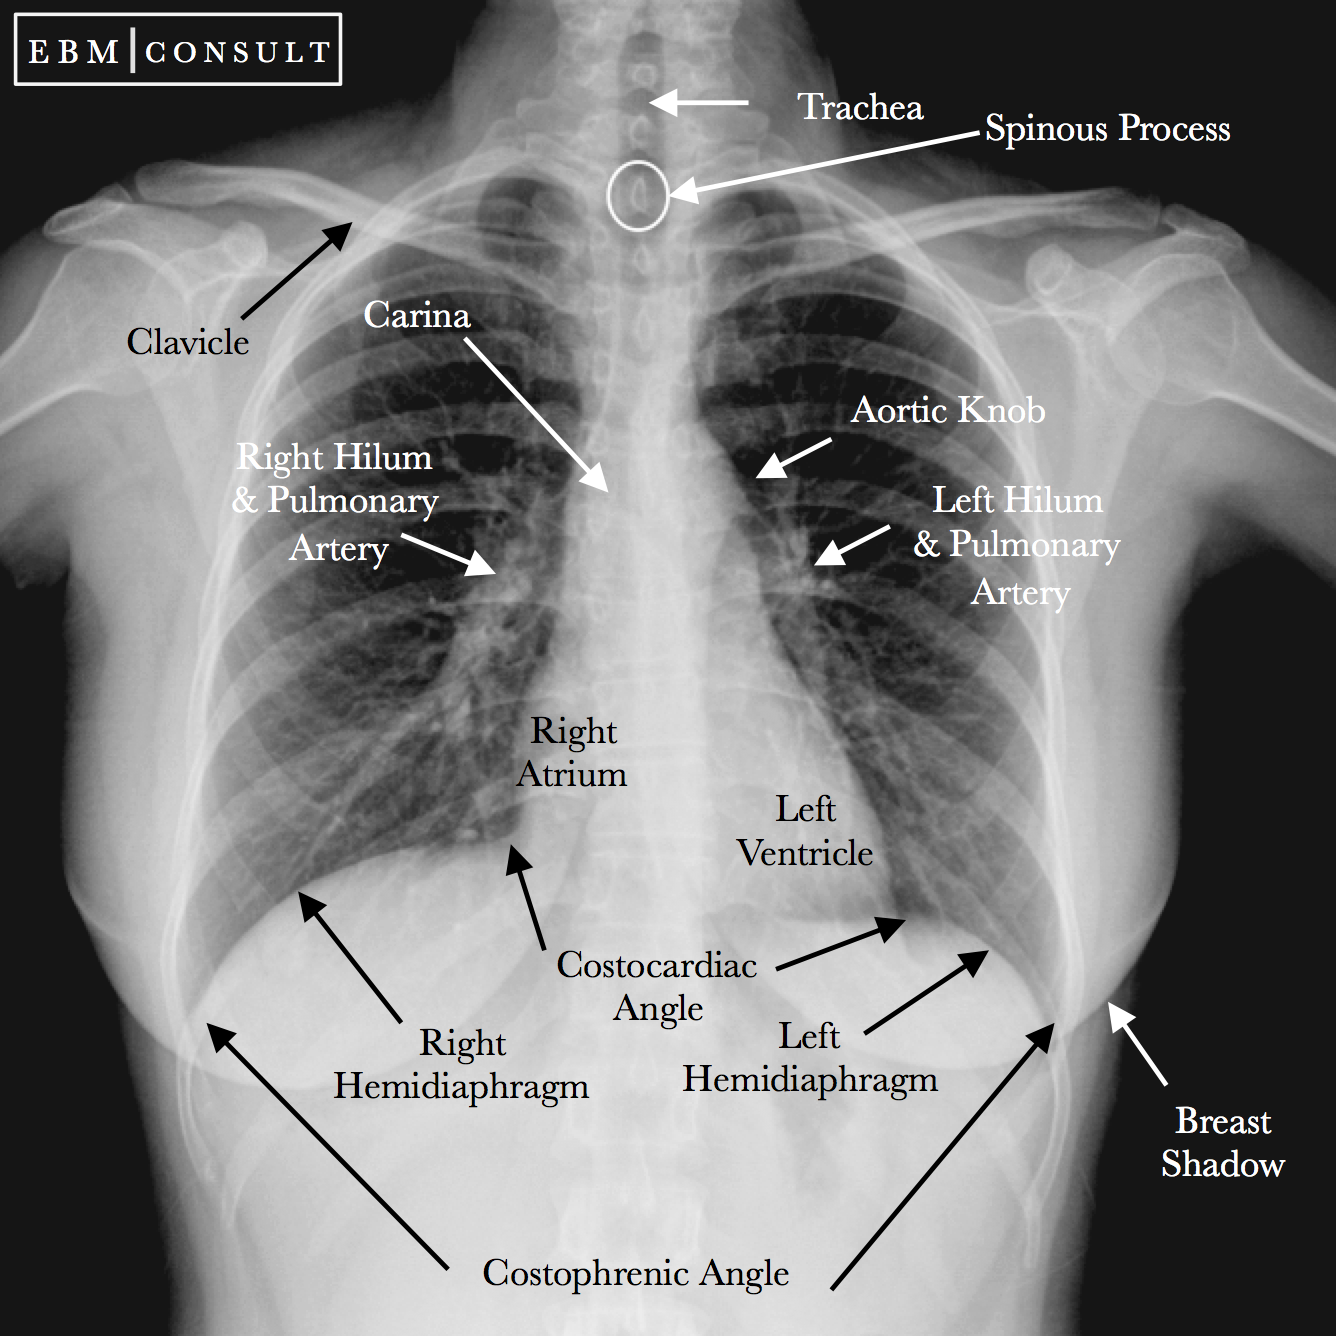telestration: (199, 1022, 447, 1276), (829, 1020, 1053, 1293), (908, 480, 1118, 617), (666, 119, 978, 207), (228, 443, 436, 569), (458, 329, 603, 499), (327, 1028, 597, 1108), (681, 1022, 936, 1099), (552, 946, 759, 1029), (299, 894, 407, 1026), (235, 214, 354, 319), (864, 947, 986, 1037), (1149, 1104, 1291, 1181), (732, 796, 877, 869), (982, 108, 1232, 149), (477, 1254, 794, 1285), (507, 713, 633, 788), (761, 913, 911, 975), (847, 393, 1050, 429), (792, 87, 929, 132), (1105, 997, 1170, 1090), (503, 841, 551, 963), (396, 532, 507, 582), (599, 155, 668, 228), (133, 323, 246, 363), (749, 431, 832, 484), (809, 518, 894, 566), (358, 296, 469, 334), (641, 84, 752, 117)
